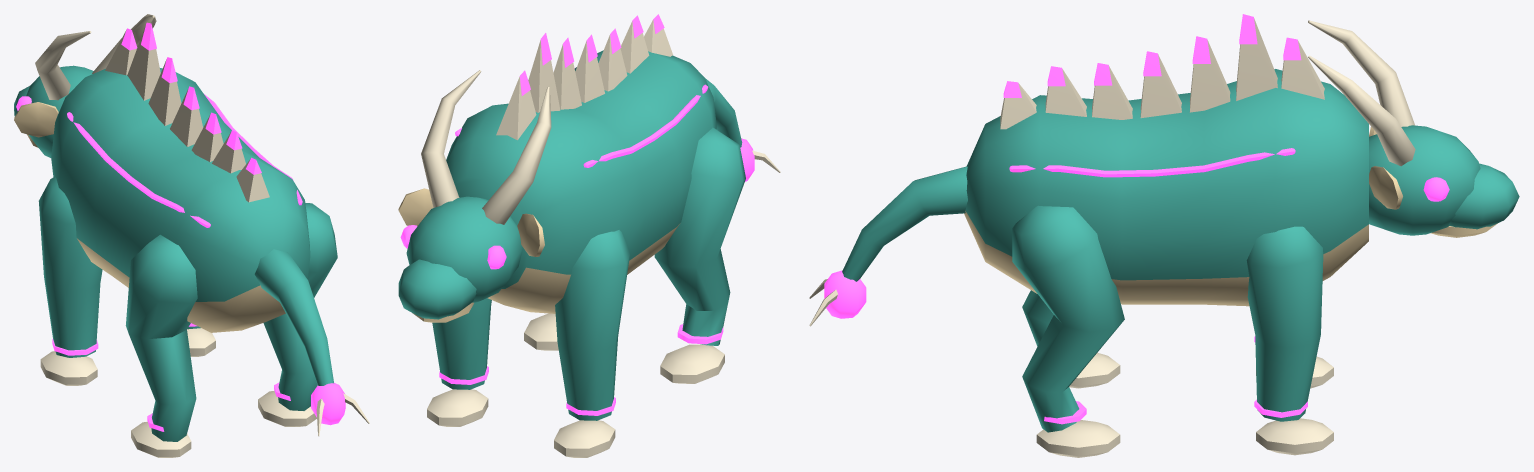
File: creature_quadruped_a.glb
3 renders of one model, left to right at view 1: azimuth 30°, elevation 25°; view 2: azimuth 150°, elevation 25°; view 3: azimuth 270°, elevation 25°, orthographic. The views are drawn at different scales.
Visible parts, largest first — view 1: Body, Leg_BL, Leg_FL, Leg_BR, Tail, Head, Leg_FR; view 2: Body, Head, Leg_BL, Leg_FL, Leg_FR, Tail, Leg_BR; view 3: Body, Head, Leg_BR, Leg_FR, Tail, Leg_BL.
Boxes of the visible parts, <box> form: Body: <box>51,22,310,332</box>; Leg_BL: <box>125,234,197,457</box>; Leg_FL: <box>38,176,102,385</box>; Leg_BR: <box>258,203,337,426</box>; Tail: <box>254,249,369,436</box>; Head: <box>14,14,156,157</box>; Leg_FR: <box>187,323,215,356</box>; Body: <box>446,14,716,313</box>; Head: <box>398,70,551,322</box>; Leg_BL: <box>654,127,745,383</box>; Leg_FL: <box>554,230,630,457</box>; Leg_FR: <box>427,298,491,426</box>; Tail: <box>705,78,780,181</box>; Leg_BR: <box>524,313,558,350</box>; Body: <box>964,14,1368,306</box>; Head: <box>1308,20,1519,237</box>; Leg_BR: <box>1012,205,1124,457</box>; Leg_FR: <box>1246,226,1333,455</box>; Tail: <box>809,166,967,326</box>; Leg_BL: <box>1022,290,1120,388</box>.
Size of the model in its own units: 0.95 by 1.63 by 2.59.
